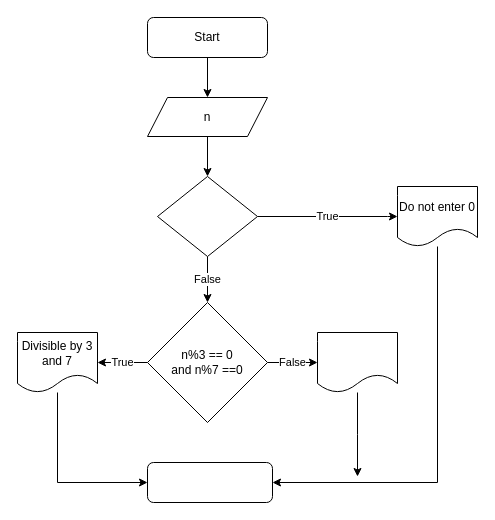
Some shapes in this 495 by 520 pixel diagram are drawn without their labels. Here are the shapes that lost their labels. From the top down, the centre of each, then its label:
pixel 207 216: n==0
pixel 357 362: Undivisible by 3 and 7
pixel 209 482: End
